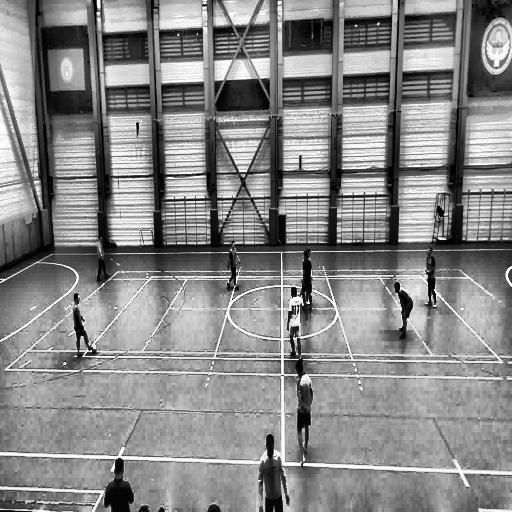ball: (91, 343, 97, 355)
player: (260, 432, 288, 509), (295, 358, 313, 465), (286, 286, 305, 362), (72, 292, 92, 357), (395, 282, 413, 340), (225, 241, 240, 289), (425, 248, 436, 308), (96, 234, 109, 282), (302, 250, 312, 311)
